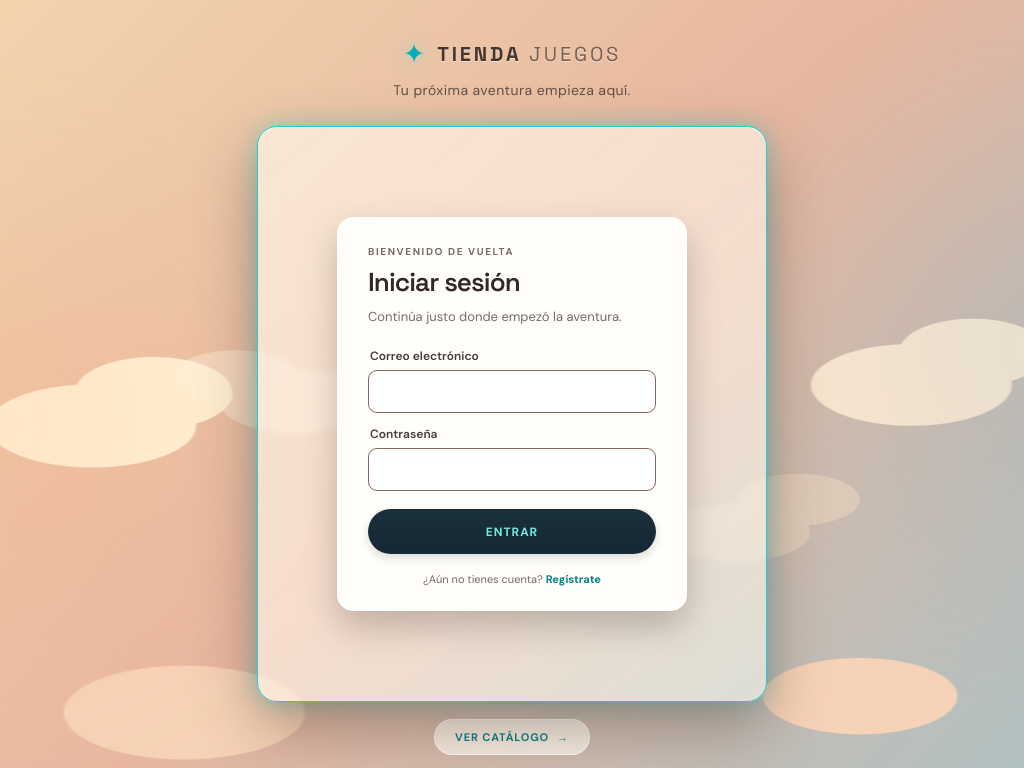
Test case: AuthScreen › valida el formulario de registro y crea la cuenta
The image size is (1024, 768).
Later steps or results of the test are not shown.
Click the button "Regístrate" at {"x": 573, "y": 579}, box x1=546 y1=572 x2=601 y2=586
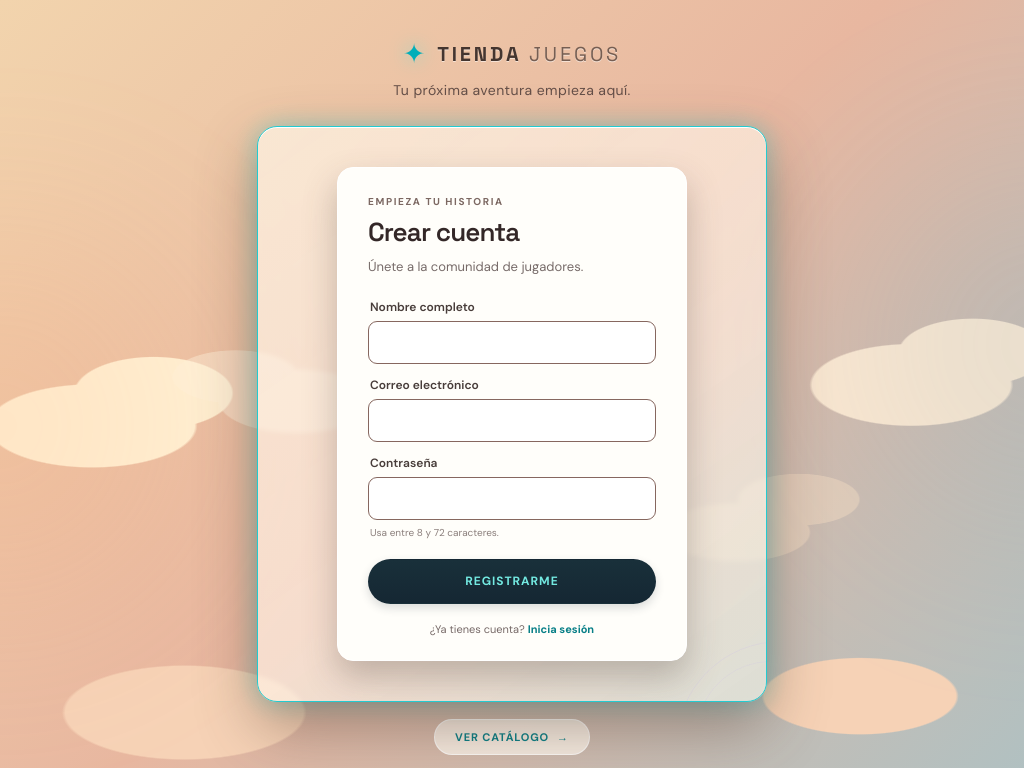
Now the heading "Crear cuenta" is shown, box x1=368 y1=215 x2=519 y2=249
Click the button "Registrarme" at {"x": 512, "y": 581}, box x1=368 y1=559 x2=656 y2=604
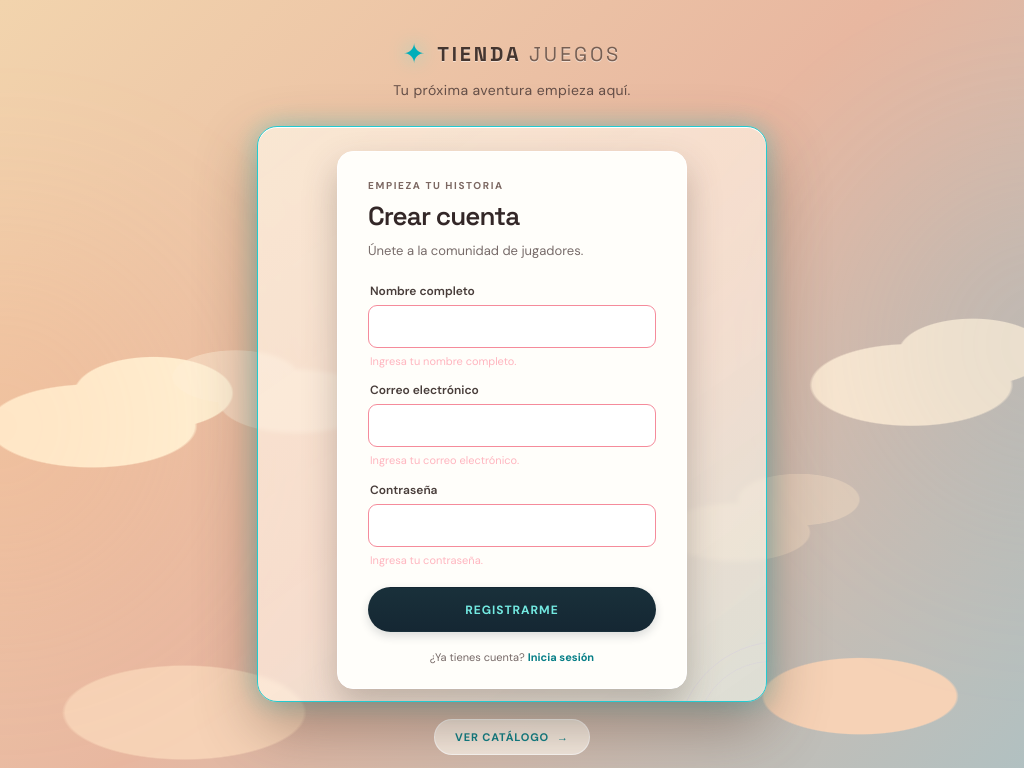
Now the text "Ingresa tu nombre completo." is shown, box x1=370 y1=354 x2=516 y2=368
Now the text "Ingresa tu correo electrónico." is shown, box x1=370 y1=453 x2=519 y2=467
Now the text "Ingresa tu contraseña." is shown, box x1=370 y1=553 x2=483 y2=567
Type "  Ana Pérez  " into the field labelled "Nombre completo" at {"x": 512, "y": 326}, box x1=368 y1=304 x2=656 y2=348
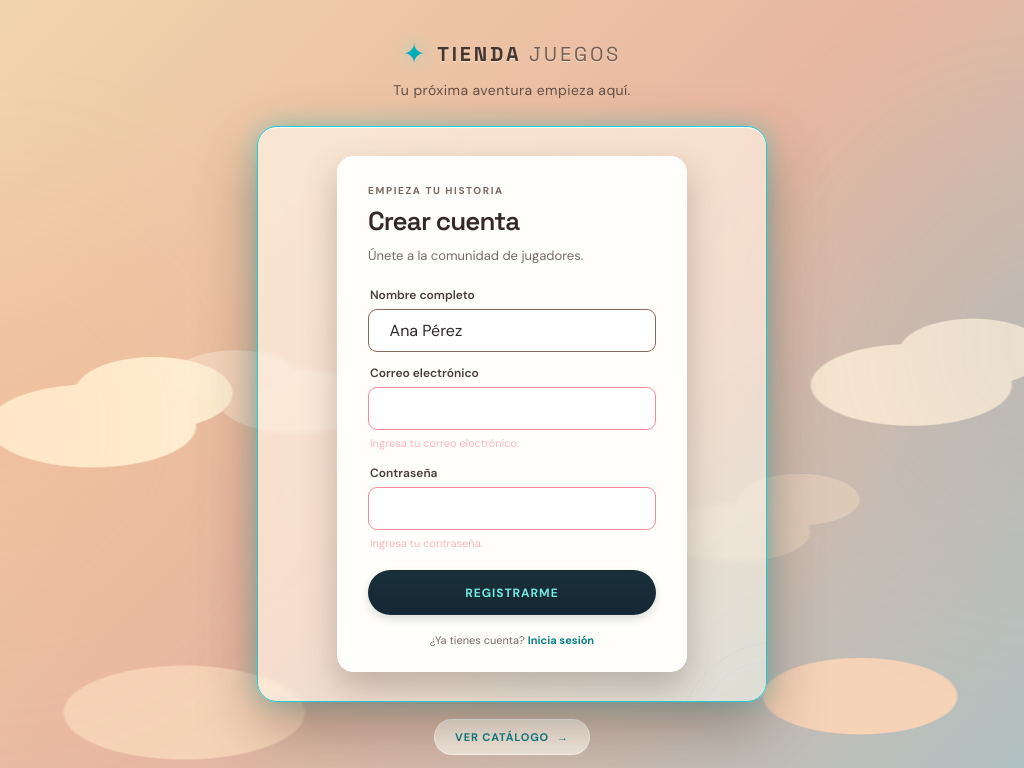
Type "ana@correo.com" into the field labelled "Correo electrónico" at {"x": 512, "y": 409}, box x1=368 y1=387 x2=656 y2=430
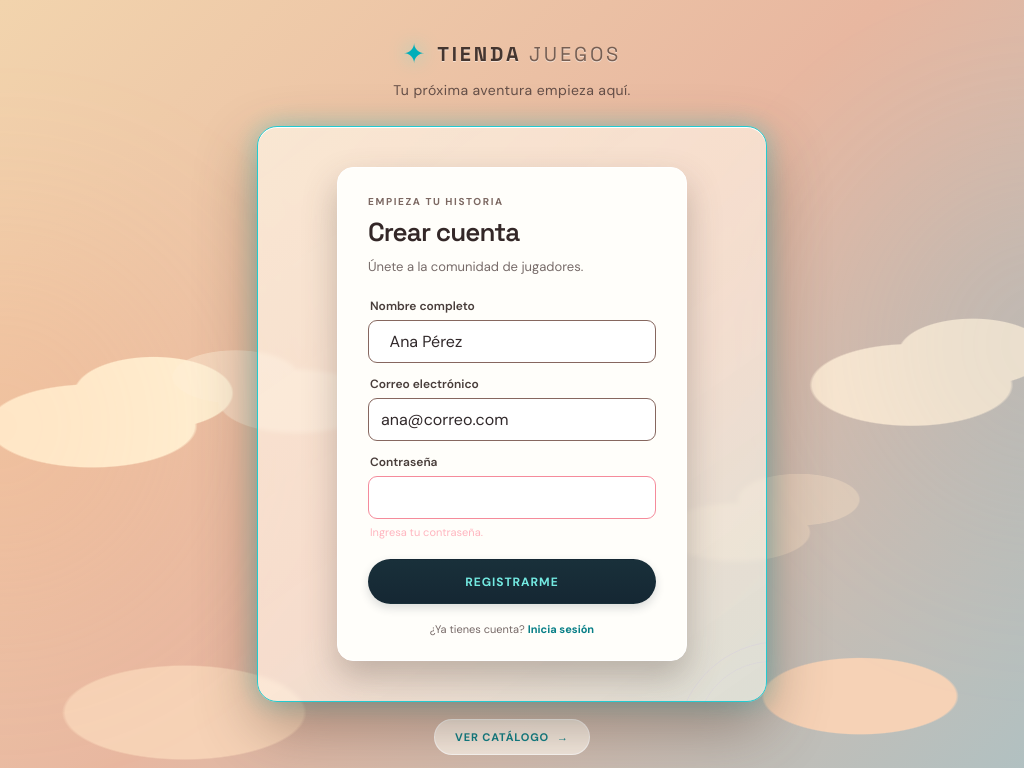
Type "corta" into the password field labelled "Contraseña" at {"x": 512, "y": 498}, box x1=368 y1=476 x2=656 y2=519
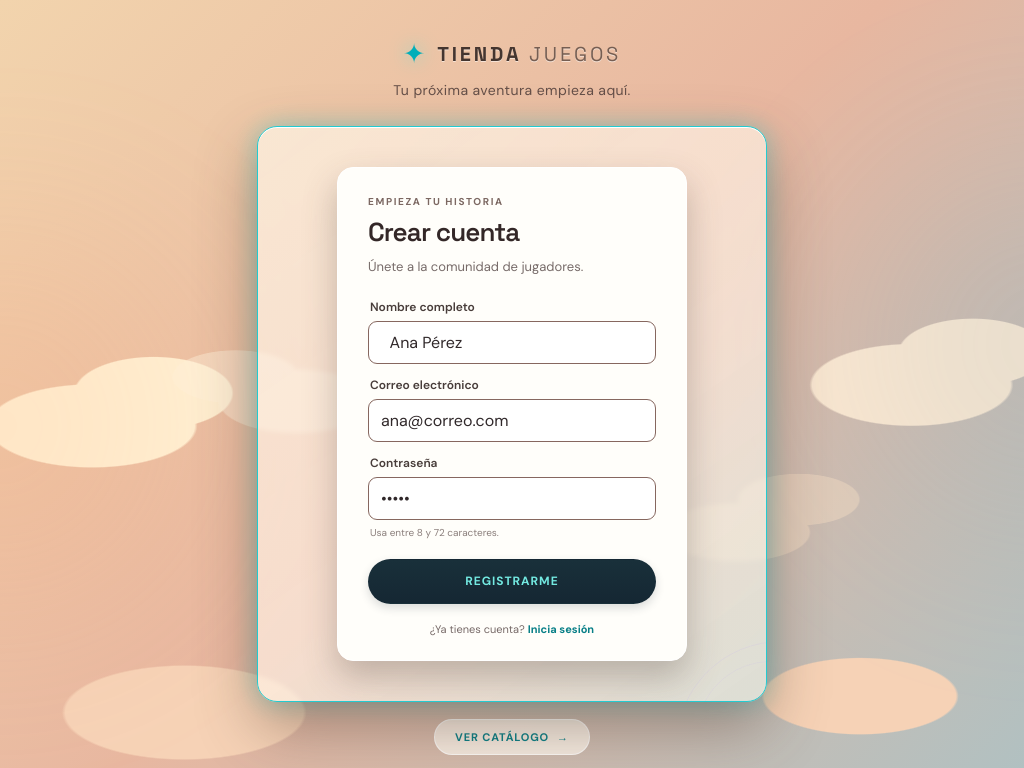
Click the button "Registrarme" at {"x": 512, "y": 581}, box x1=368 y1=559 x2=656 y2=604
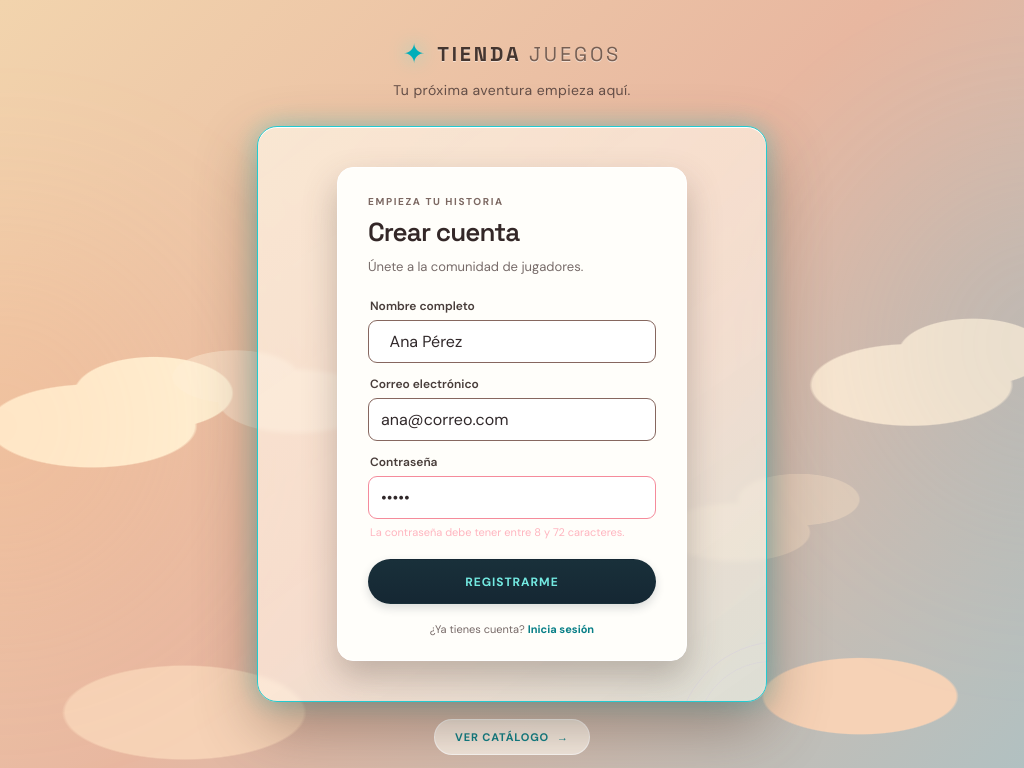
Now the text "La contraseña debe tener entre 8 y 72 caracteres." is shown, box x1=370 y1=525 x2=654 y2=541
